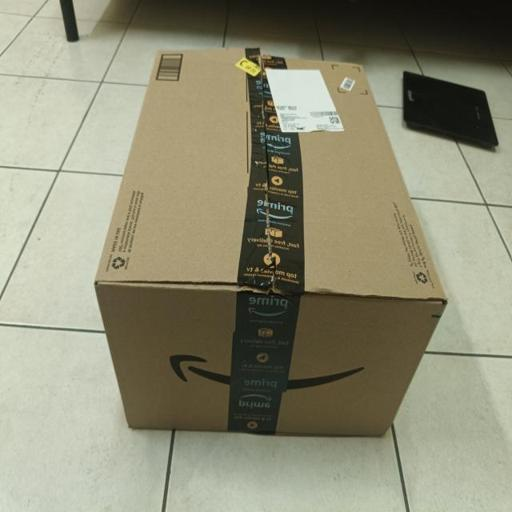Amazon: (111, 46, 445, 450)
